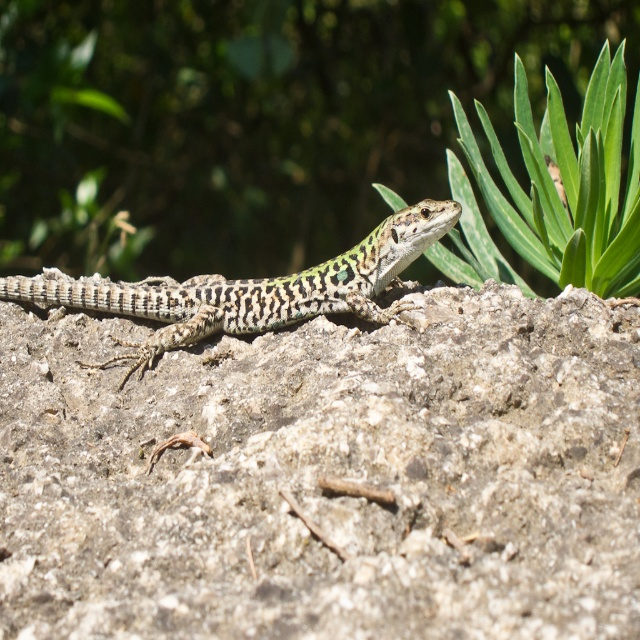Lizard: (1, 197, 463, 394)
